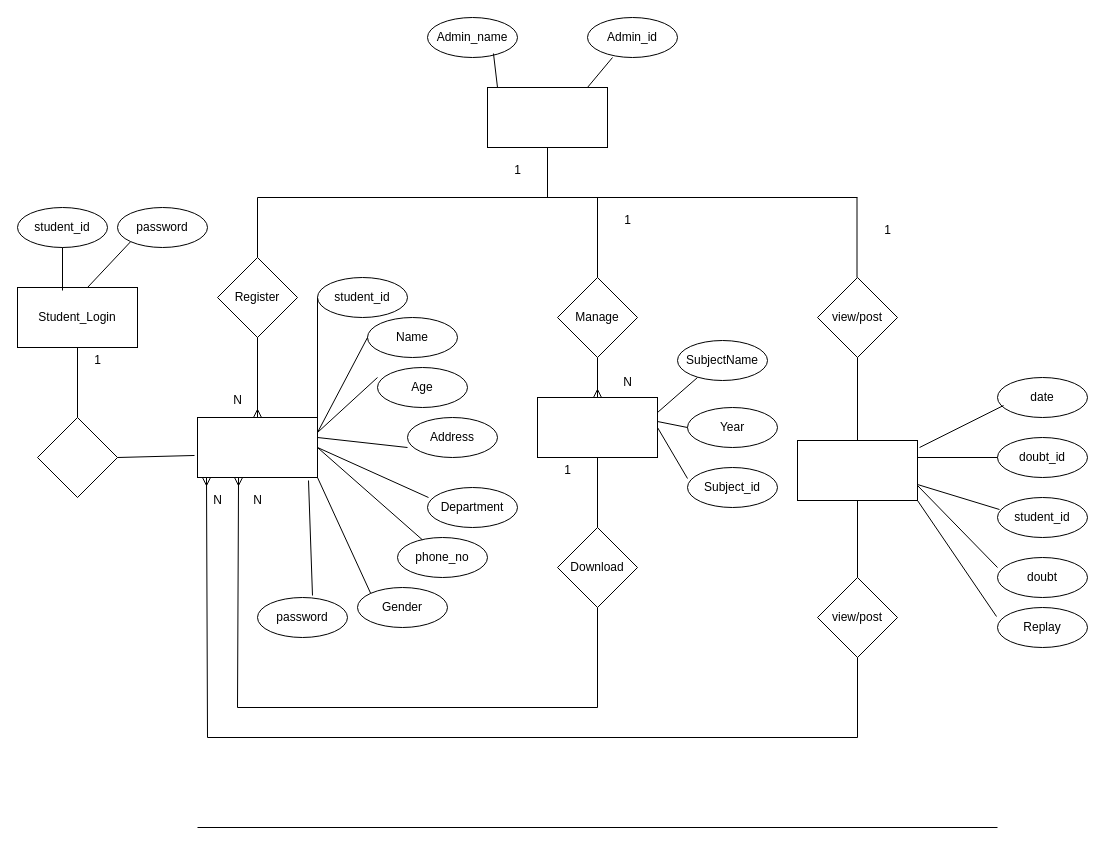
Image size: 1105x846. Some labels were removed from this diagram. Here are the shapes that lost their labels. From the top down, the box of each, then its label:
(486, 86, 608, 148): Admin
(196, 416, 318, 478): Student
(536, 396, 658, 458): StudyMaterials
(36, 416, 118, 498): Has
(796, 440, 918, 500): Doubts
